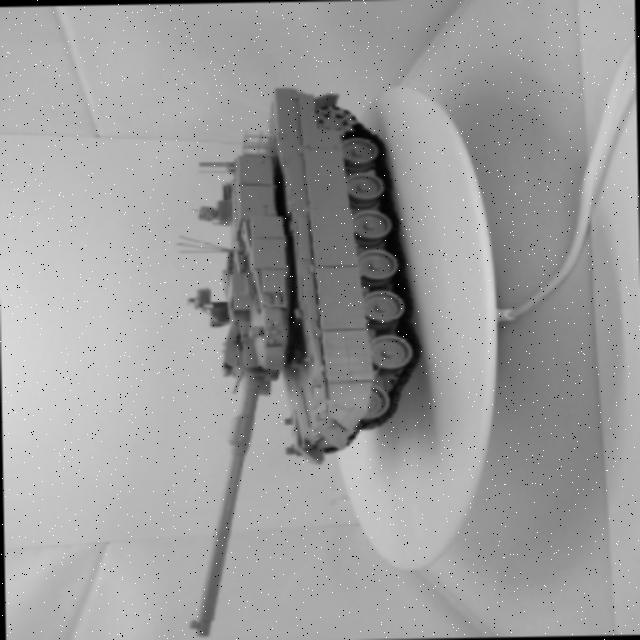korea tank: (164, 55, 436, 638)
